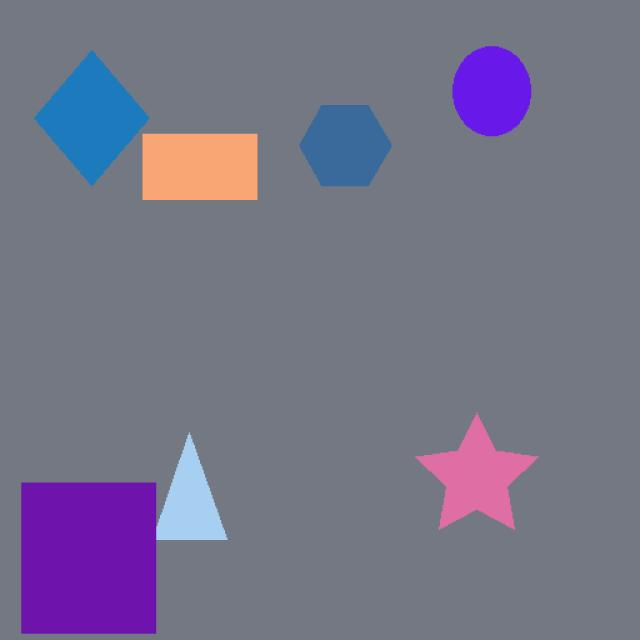Circle: (440, 21, 562, 157)
Hexagon: (279, 98, 424, 216)
Kite: (25, 32, 151, 199)
Rectangle: (114, 107, 294, 224)
Star: (393, 396, 575, 568)
Triangle: (125, 411, 257, 567)
square: (15, 457, 192, 640)
